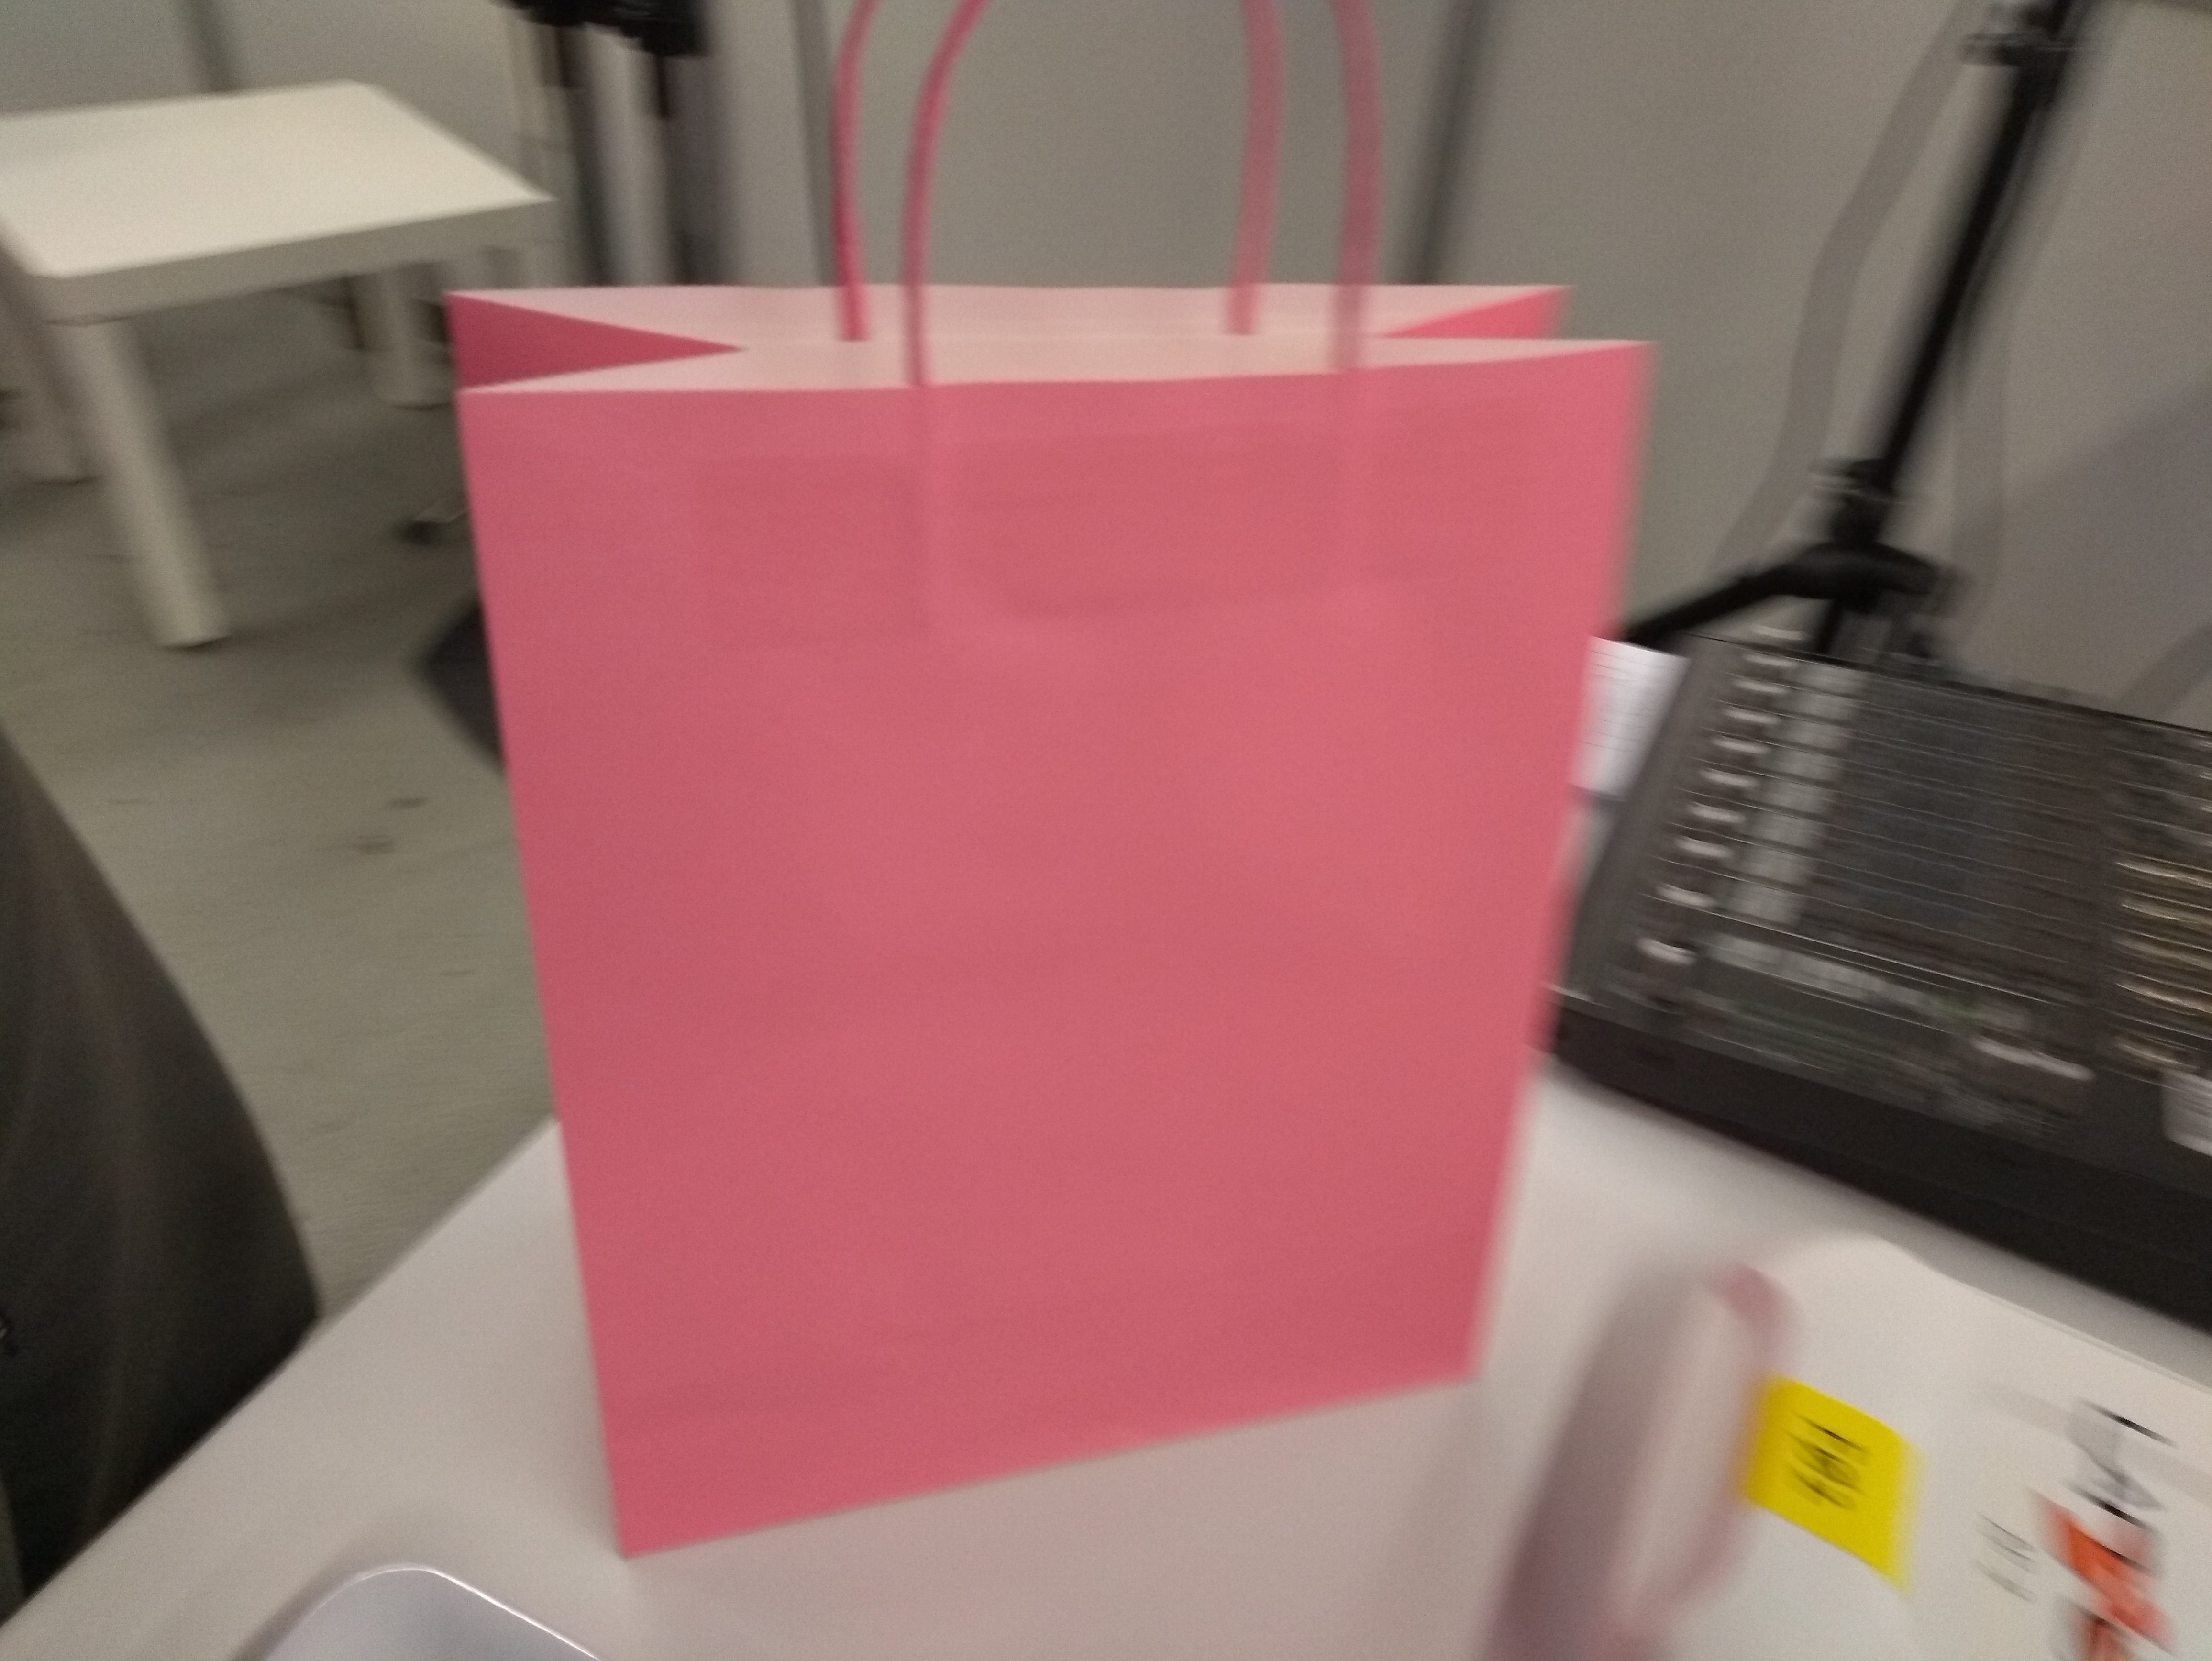help_me_carry_opl: (433, 0, 1657, 1548)
